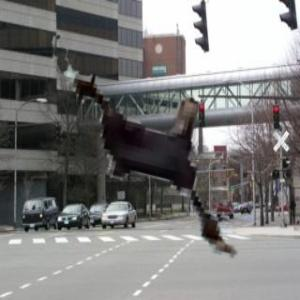drone: (9, 5, 292, 288)
